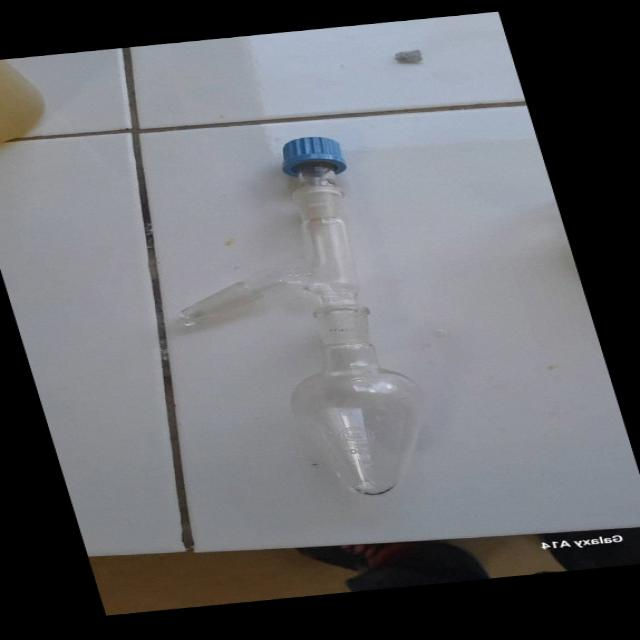Distillation: (106, 119, 523, 520)
